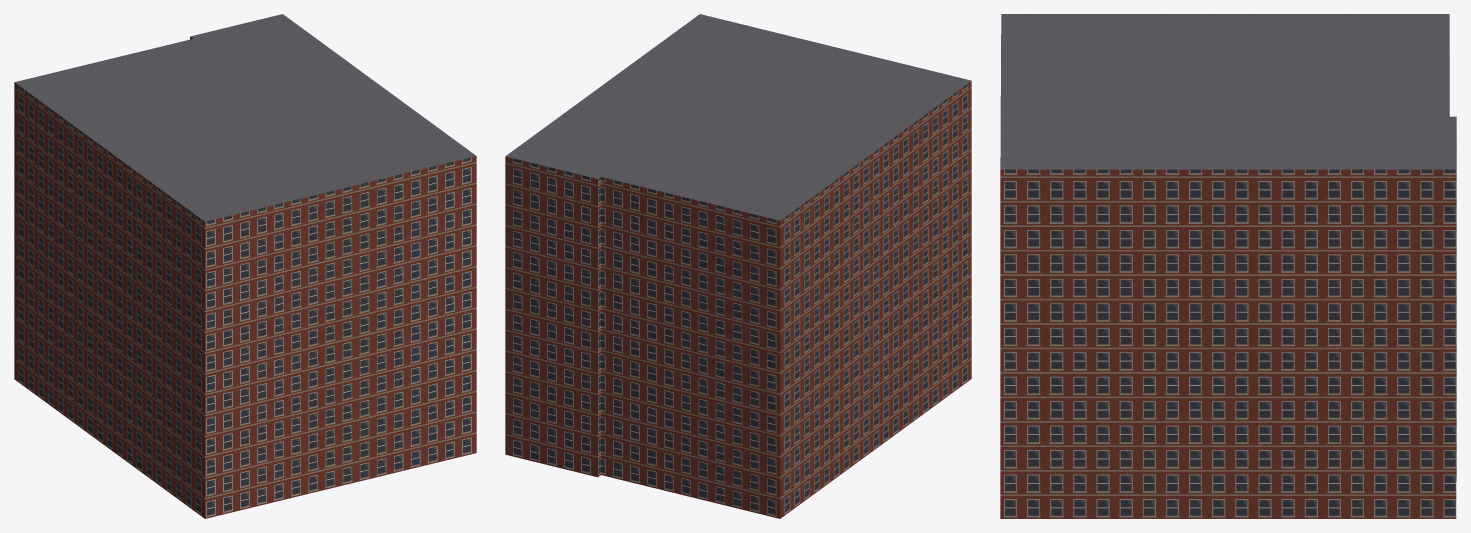
The model's file is bin1087263.glb.
The picture shows the model from 3 angles, left to right: view 1: azimuth 30°, elevation 25°; view 2: azimuth 150°, elevation 25°; view 3: azimuth 270°, elevation 25°; orthographic projection. The views are drawn at different scales.
Parts seen in each view (by area): view 1: c14, c29, c13, c28, c10, c25, c12, c27, c19, c39, c4, c3 (+13 smaller); view 2: c4, c3, c0, c44, c9, c19, c39, c14, c8, c2, c5, c7 (+21 smaller); view 3: c39, c38, c44, c35, c37, c43, c40, c42, c36, c19, c41, c24 (+8 smaller).
Boxes of the visible parts, left/top/right/bottom form: c14: left=147, top=157, right=313, bottom=272; c29: left=274, top=145, right=476, bottom=246; c13: left=147, top=231, right=313, bottom=349; c28: left=314, top=207, right=476, bottom=322; c10: left=147, top=406, right=313, bottom=518; c25: left=314, top=382, right=476, bottom=492; c12: left=147, top=308, right=313, bottom=410; c27: left=314, top=283, right=476, bottom=383; c19: left=101, top=85, right=240, bottom=230; c39: left=256, top=76, right=471, bottom=152; c4: left=14, top=70, right=132, bottom=196; c3: left=14, top=134, right=101, bottom=273; c4: left=732, top=156, right=867, bottom=271; c3: left=732, top=208, right=867, bottom=348; c0: left=732, top=384, right=867, bottom=518; c44: left=505, top=94, right=672, bottom=222; c9: left=564, top=135, right=689, bottom=245; c19: left=674, top=118, right=913, bottom=207; c39: left=590, top=17, right=757, bottom=129; c14: left=804, top=54, right=971, bottom=173; c8: left=564, top=222, right=673, bottom=322; c2: left=732, top=285, right=867, bottom=409; c5: left=564, top=397, right=673, bottom=492; c7: left=564, top=299, right=673, bottom=383; c39: left=1010, top=107, right=1293, bottom=229; c38: left=1010, top=230, right=1257, bottom=319; c44: left=1257, top=110, right=1456, bottom=229; c35: left=1010, top=435, right=1257, bottom=518; c37: left=1010, top=319, right=1257, bottom=391; c43: left=1257, top=230, right=1456, bottom=319; c40: left=1257, top=435, right=1456, bottom=518; c42: left=1257, top=319, right=1456, bottom=391; c36: left=1010, top=391, right=1257, bottom=435; c19: left=1136, top=14, right=1338, bottom=108; c41: left=1257, top=391, right=1456, bottom=435; c24: left=1117, top=26, right=1307, bottom=114.
Size of the model in its own units: 47.75 by 49.99 by 59.15.
Materials: 3 (3 with a texture image).
